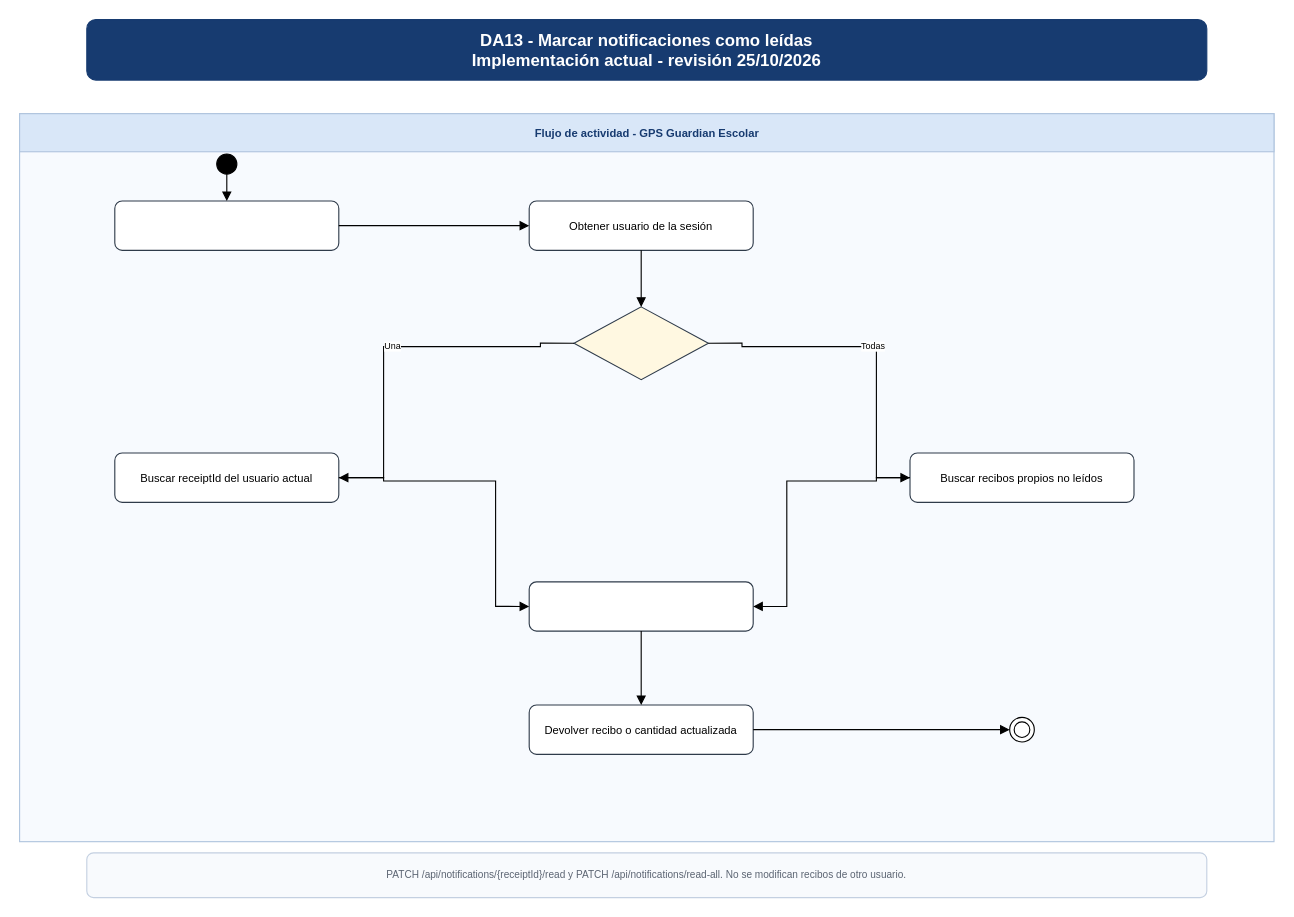
This 1294x917 diagram has some shape labels left out. The shapes that lost their labels are listed below. From the top down, each one's centre as x and y in pixels, then its label:
the point at 226,225: Abrir bandeja de notificaciones
the point at 640,343: ¿Una o todas?
the point at 640,606: Actualizar wasRead y readAt; guardar
